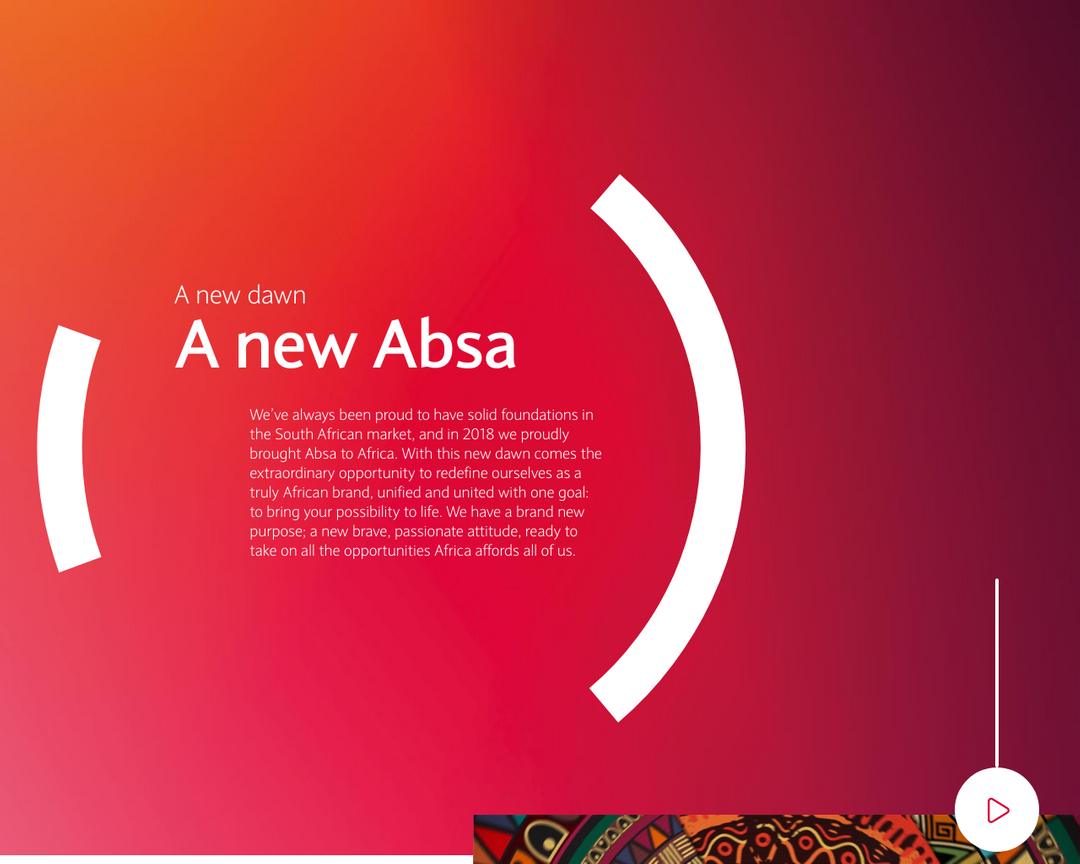ABSA: (367, 308, 520, 381)
